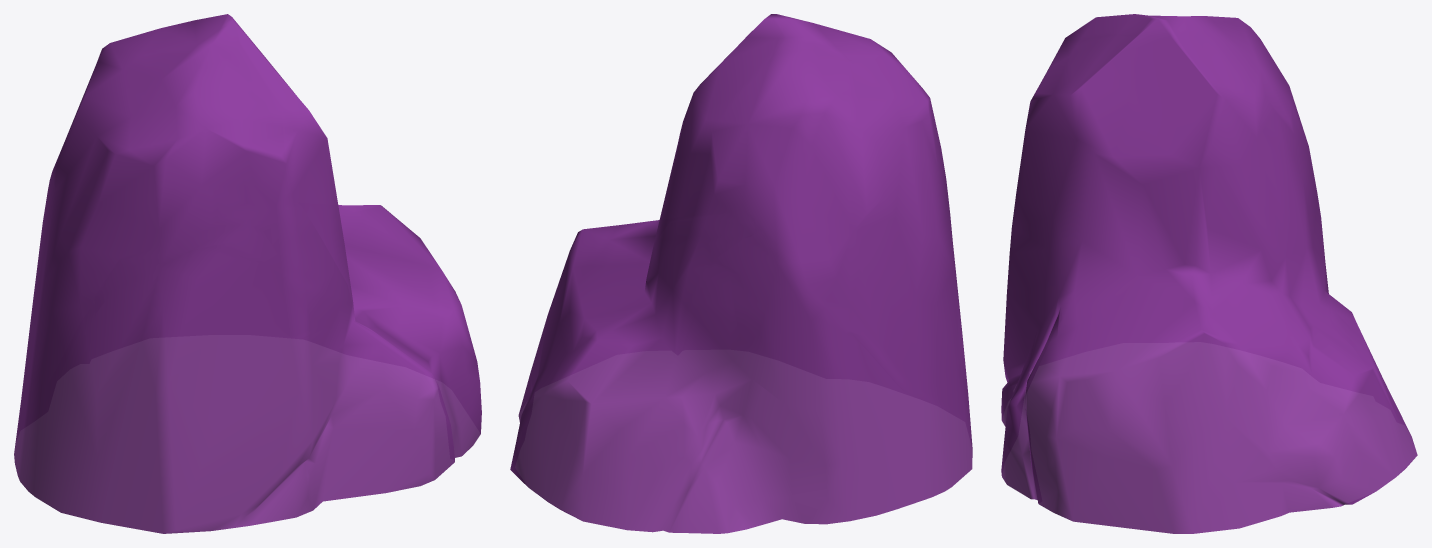
File: SM_StoneSmall_05.fbx
3 views of the same model, side by side, from view 1: azimuth 30°, elevation 25°; view 2: azimuth 150°, elevation 25°; view 3: azimuth 270°, elevation 25° (orthographic). The views are drawn at different scales.
Parts seen in each view (by area): view 1: SM_Stone_05_LOD0; view 2: SM_Stone_05_LOD0; view 3: SM_Stone_05_LOD0.
Boxes of the visible parts, bbox=[...] form: SM_Stone_05_LOD0: bbox=[14, 14, 481, 533]; SM_Stone_05_LOD0: bbox=[510, 14, 972, 533]; SM_Stone_05_LOD0: bbox=[1001, 14, 1417, 533].
Size of what is drawn, in the model's own units: 245 by 244 by 223.
